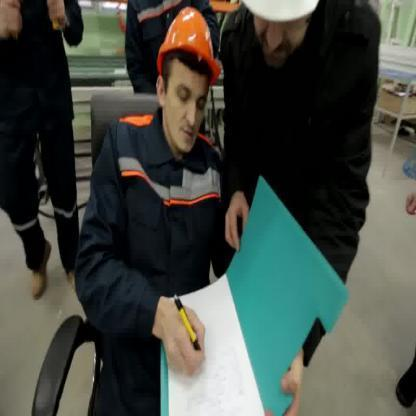helmet: (156, 7, 221, 84)
vest: (76, 109, 250, 414)
